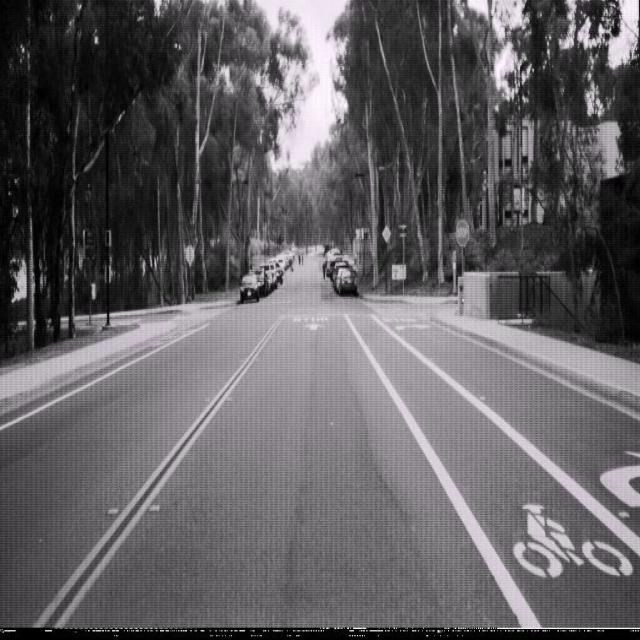stop_sign: (455, 218, 469, 246)
